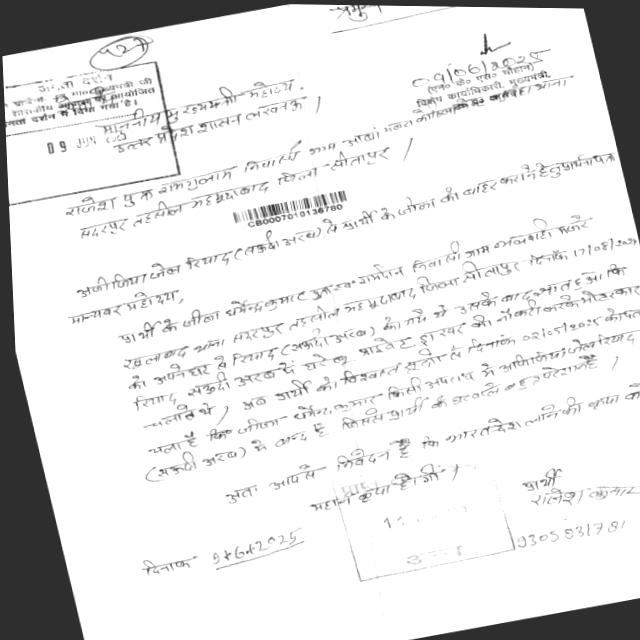antritgovtstamp: (325, 450, 525, 586)
barcode: (224, 183, 357, 233)
jantadarsan: (2, 55, 186, 211)
signnamestamp: (400, 16, 569, 113)
